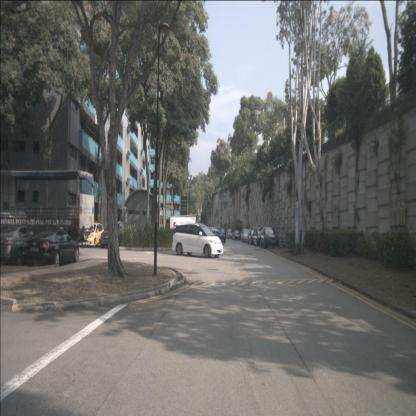vehicle-bus-rigid: (0, 170, 95, 248)
vehicle-car: (23, 228, 79, 267), (172, 223, 223, 258), (0, 225, 42, 265), (100, 221, 127, 249), (82, 222, 104, 248), (260, 226, 279, 248), (203, 228, 226, 246), (252, 227, 266, 246), (247, 229, 258, 245), (241, 229, 251, 242), (232, 231, 240, 240), (227, 228, 233, 239), (220, 228, 226, 236)
